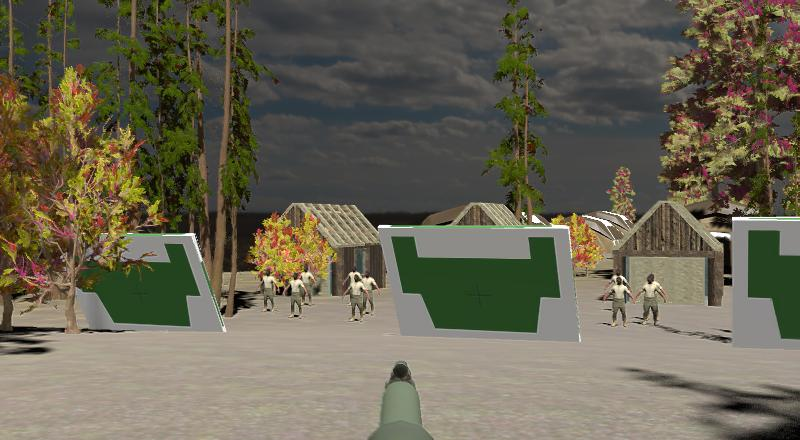House: (612, 200, 727, 307), (268, 202, 385, 295), (450, 203, 522, 233)
Human: (634, 271, 668, 329), (603, 273, 634, 329), (343, 273, 368, 323), (284, 271, 306, 319), (359, 269, 379, 316), (258, 269, 278, 313), (298, 263, 317, 305)
